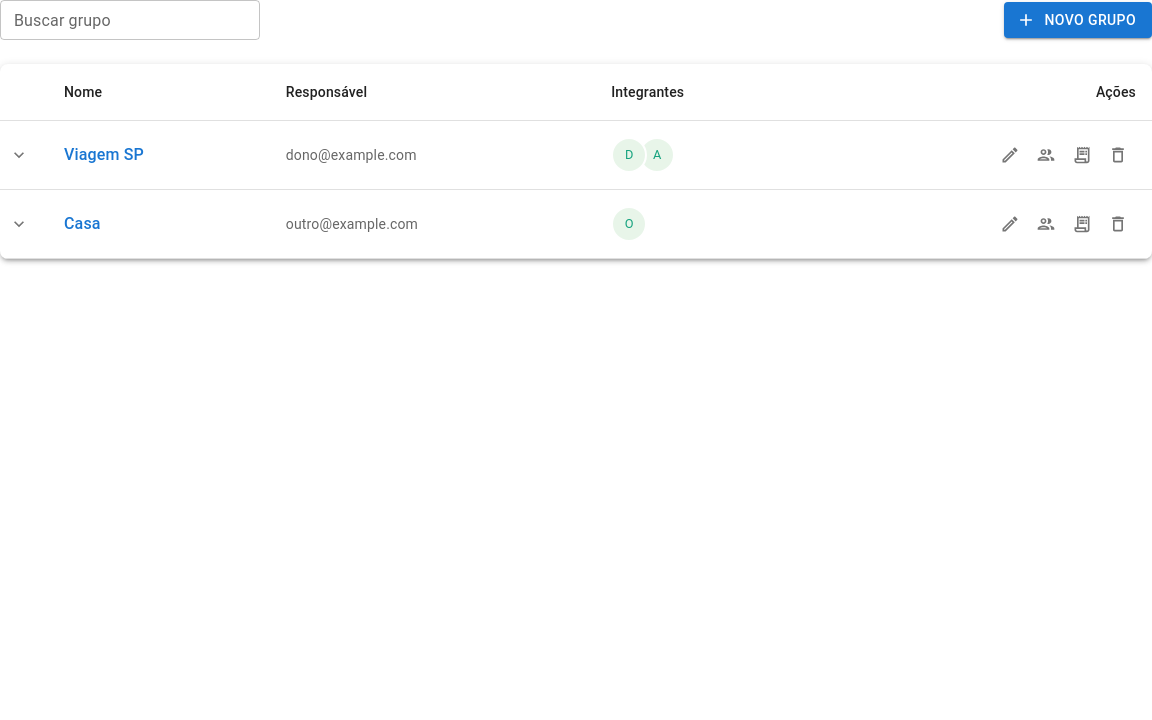
Dashboard › warns that history is preserved when the group has a closed cycle
Check: the link "Viagem SP" is shown, box x1=64 y1=145 x2=144 y2=164
Click the button named "Excluir grupo" in the row of "Viagem SP" at (1118, 155), box x1=1100 y1=137 x2=1136 y2=173
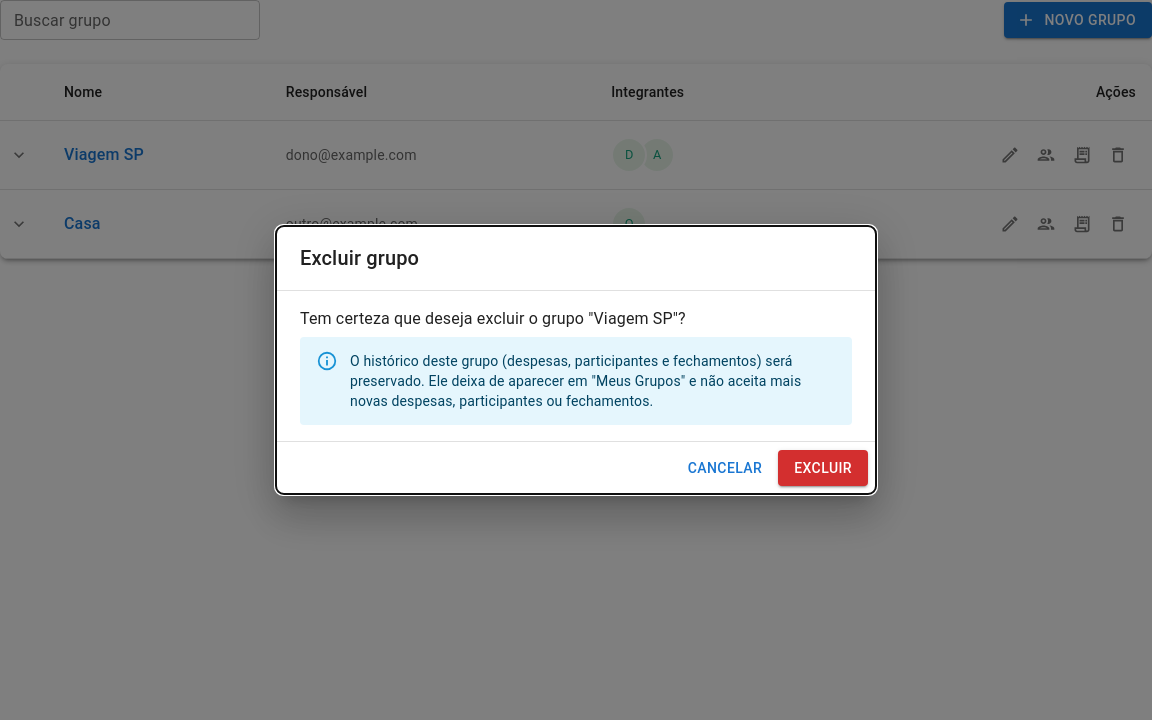
Check: the text "O histórico deste grupo (despesas, participantes e fechamentos) será preservado." is shown, box x1=350 y1=352 x2=801 y2=408
